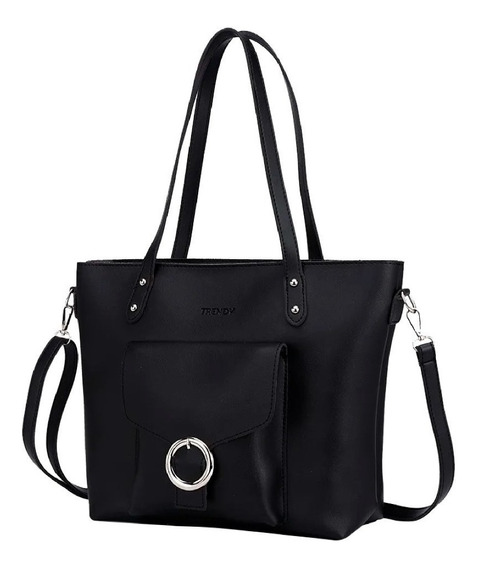cartera: (19, 26, 456, 544)
